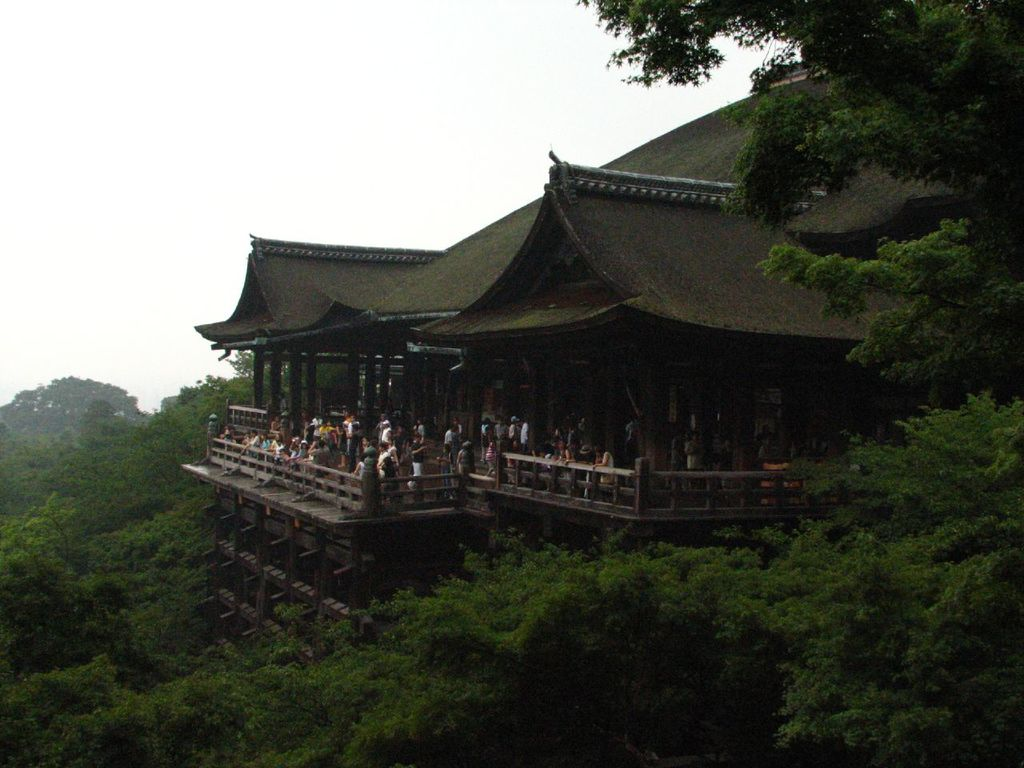Tree: (571, 0, 1023, 767), (0, 356, 259, 602)
